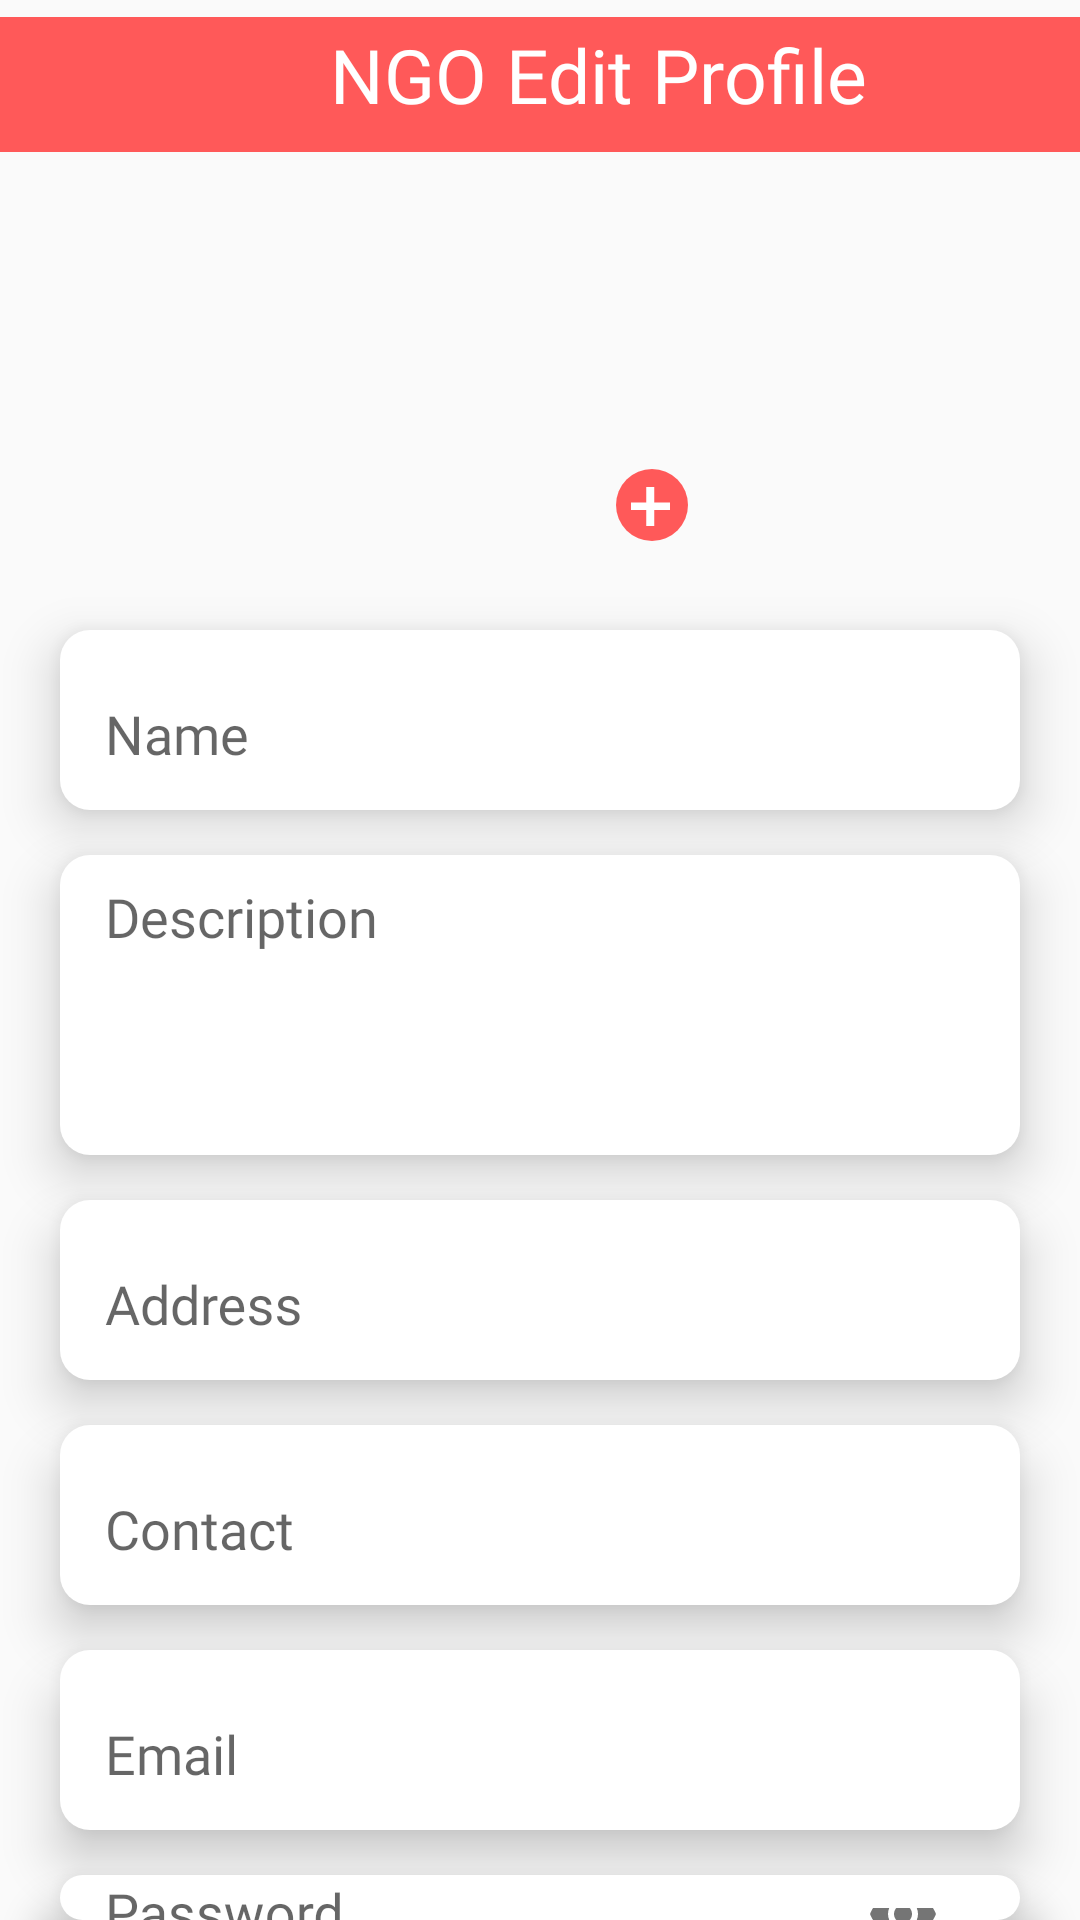

Locate icon controls on the screen. Image size 1080px x 1920px, boxes as [left=x1, top=y1, right=x2, bottom=y2].
pic add: [left=616, top=469, right=688, bottom=541]
